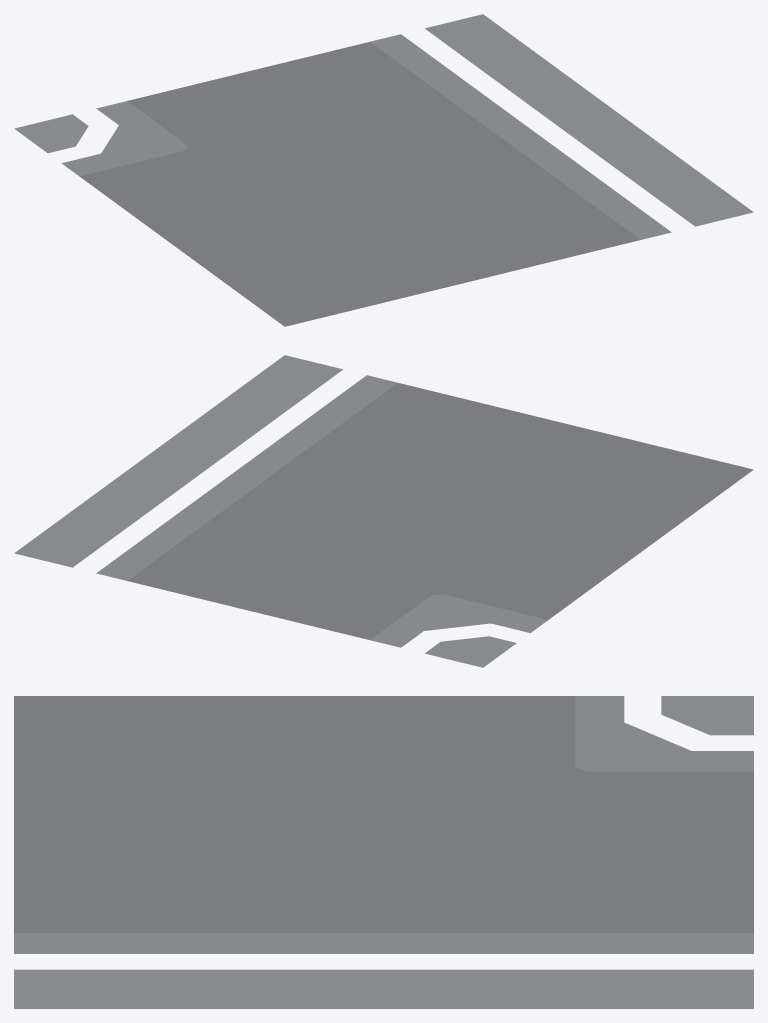
File: Ceiling_type_B_008_011.glb
3 renders of one model, top to bottom at view 1: azimuth 30°, elevation 25°; view 2: azimuth 150°, elevation 25°; view 3: azimuth 270°, elevation 25°, orthographic. The views are drawn at different scales.
Visible parts, largest first — view 1: Ceiling_type_B_008.011; view 2: Ceiling_type_B_008.011; view 3: Ceiling_type_B_008.011.
Boxes of the visible parts, box(x1,y1,x2,y2) form: Ceiling_type_B_008.011: box(14, 14, 753, 326); Ceiling_type_B_008.011: box(14, 355, 753, 667); Ceiling_type_B_008.011: box(14, 696, 753, 1008).
Size of the model in its own units: 4 by 0.0455 by 4.
Materials: 2 (2 with a texture image).
